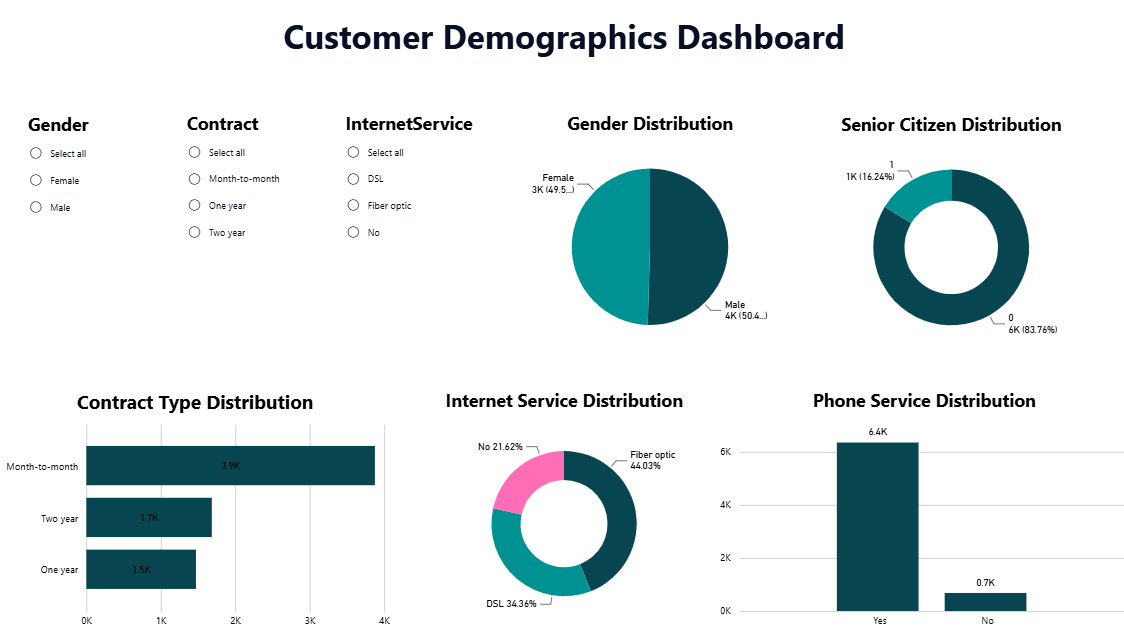

What the dashboard file says about the page in this screenshot:
{"tool":"powerbi","page":{"name":"Customer Demographics","canvas":[1280,720],"ordinal":1},"visuals":[{"type":"pieChart","title":"Gender Distribution","fields":{"Category":["ltv_dataset.gender"],"Y":["ltv_dataset.Customer Count"]},"box":[568.1,127.8,338.9,280.6],"z":0},{"type":"donutChart","title":"Senior Citizen Distribution","fields":{"Category":["ltv_dataset.SeniorCitizen"],"Y":["ltv_dataset.Customer Count"]},"box":[906.9,129.2,338.9,279.2],"z":1000},{"type":"clusteredBarChart","title":"Contract Type Distribution","fields":{"Category":["ltv_dataset.Contract"],"Y":["ltv_dataset.Customer Count"]},"box":[0,440.3,448.6,279.2],"z":2000},{"type":"donutChart","title":"Internet Service Distribution","fields":{"Category":["ltv_dataset.InternetService"],"Y":["ltv_dataset.Customer Count"]},"box":[500,440.3,280.6,279.2],"z":3000},{"type":"clusteredColumnChart","title":"Phone Service Distribution","fields":{"Category":["ltv_dataset.PhoneService"],"Y":["ltv_dataset.Customer Count"]},"box":[811.1,440.3,469.4,279.2],"z":4000},{"type":"listSlicer","title":"Gender","fields":{"Values":["ltv_dataset.gender"]},"box":[30.6,129.2,179.2,279.2],"z":5000},{"type":"listSlicer","fields":{"Values":["ltv_dataset.Contract"]},"box":[209.7,127.8,179.2,280.6],"z":6000},{"type":"listSlicer","fields":{"Values":["ltv_dataset.InternetService"]},"box":[388.9,127.8,179.2,280.6],"z":7000},{"type":"textbox","box":[0,13.9,1280.6,66.7],"z":8000}]}

Visuals, with their boxes in screenshot pixels (x1, y1, x2, y2), scaled from the page's 1280x720 canvas onto the 1124x629 screenshot:
"Gender Distribution" pieChart: 499,112,796,357
"Senior Citizen Distribution" donutChart: 796,113,1094,357
"Contract Type Distribution" clusteredBarChart: 0,385,394,628
"Internet Service Distribution" donutChart: 439,385,685,628
"Phone Service Distribution" clusteredColumnChart: 712,385,1123,628
"Gender" listSlicer: 27,113,184,357
listSlicer - ltv_dataset.Contract: 184,112,342,357
listSlicer - ltv_dataset.InternetService: 342,112,499,357
textbox: 0,12,1123,70
